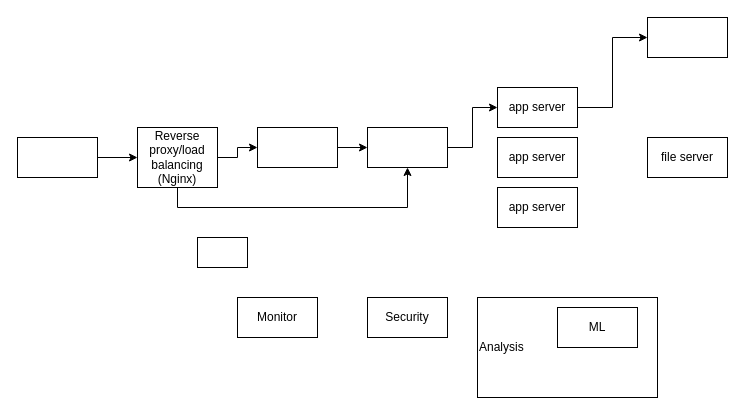
Some shapes in this 745 by 415 pixel diagram are drawn without their labels. Here are the shapes that lost their labels. From the top down, the centre of each, then its label:
At (687,37): "database".
At (57,157): "CDN".
At (297,147): "web server(react)".
At (407,147): "app gateway".
At (222,252): "Cache".
